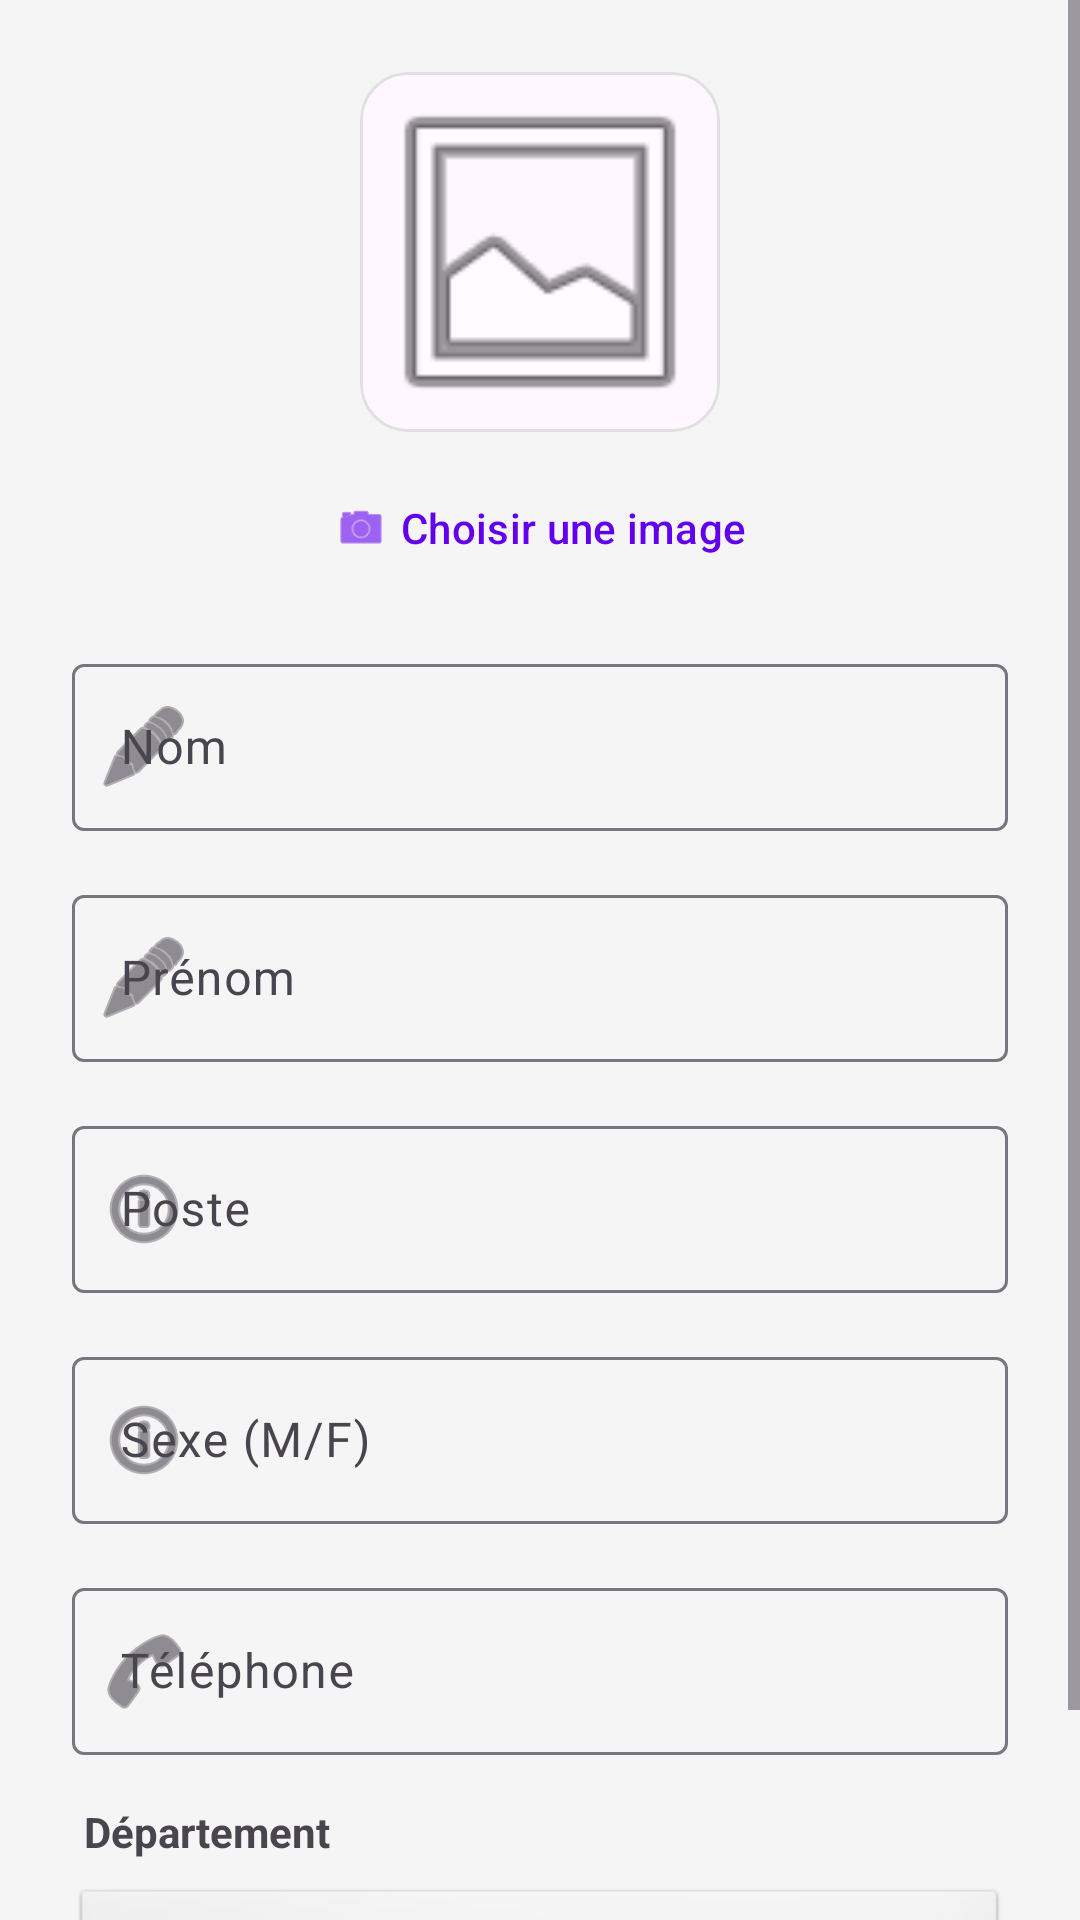

Where to tap for icons on this 1080w x 1920h app screen, as [x,y]:
gallery: [540,252]
